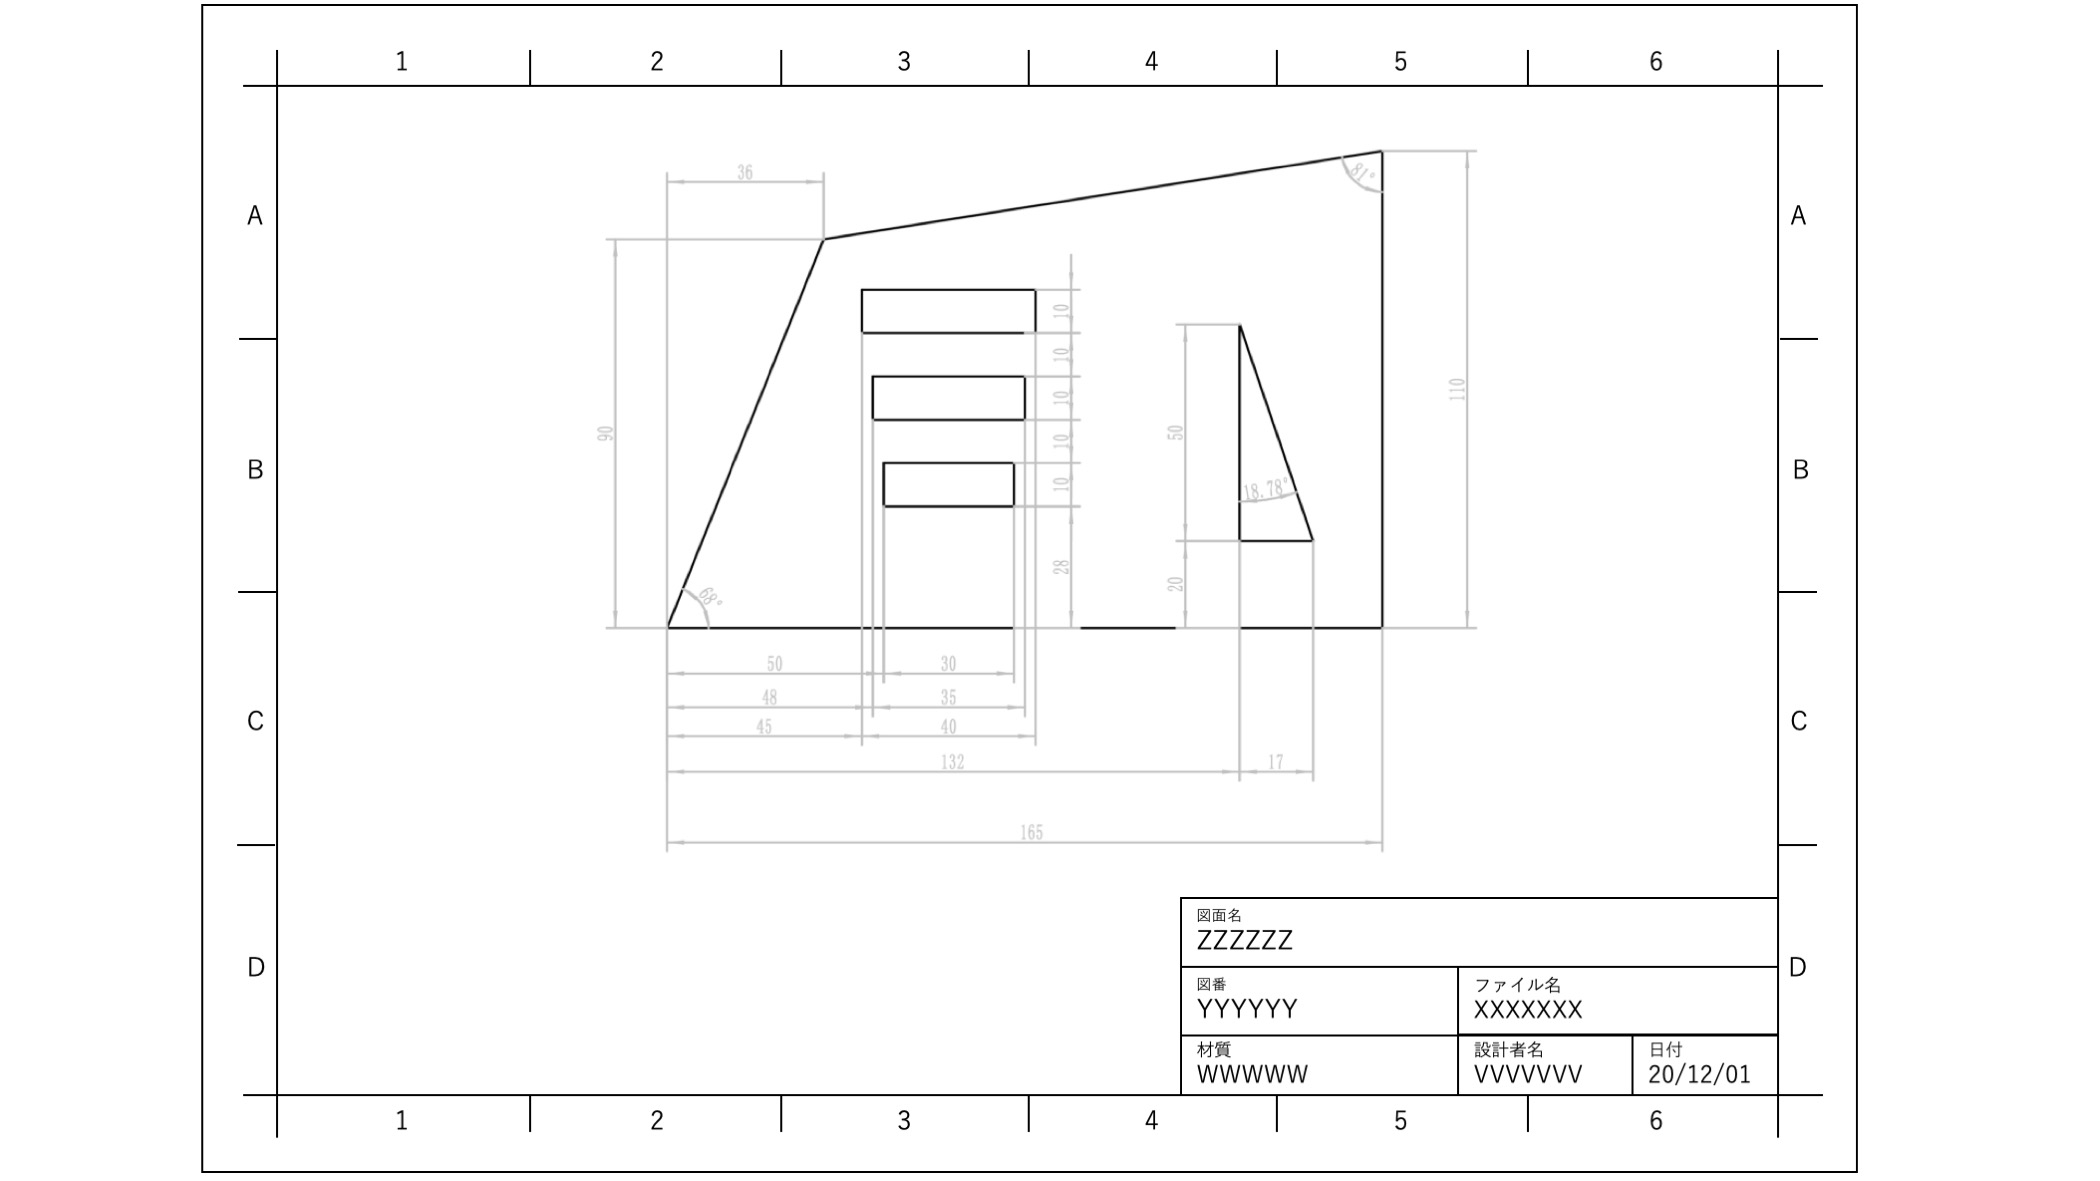rectangle: (850, 283, 1054, 345), (865, 365, 1037, 435), (875, 453, 1023, 512)
triangle: (1225, 314, 1324, 549)
